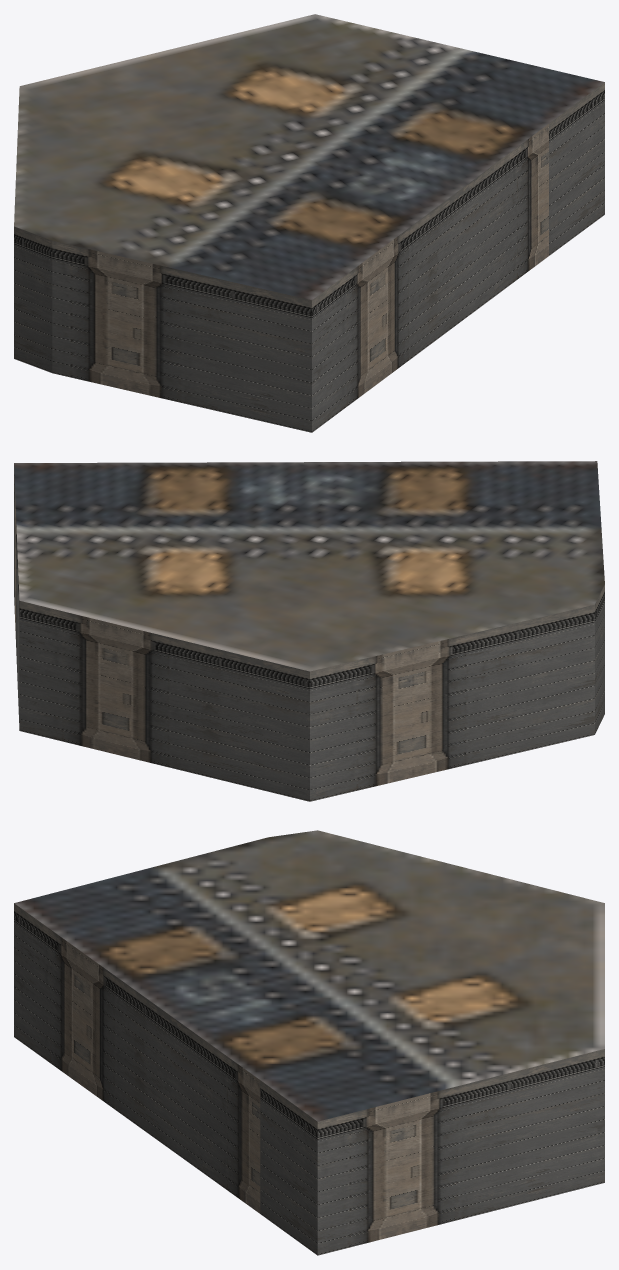
The model's file is hangar_medium_a_51.glb.
The picture shows the model from 3 angles, top to bottom: view 1: azimuth 30°, elevation 25°; view 2: azimuth 150°, elevation 25°; view 3: azimuth 270°, elevation 25°; orthographic projection. The views are drawn at different scales.
Visible parts, largest first — view 1: buildings/saxarba/hangar_medium/hangar_medium_a_51; view 2: buildings/saxarba/hangar_medium/hangar_medium_a_51; view 3: buildings/saxarba/hangar_medium/hangar_medium_a_51.
Part boxes in pixels (box(x1,y1,x2,y2)): buildings/saxarba/hangar_medium/hangar_medium_a_51: box(14, 14, 604, 432); buildings/saxarba/hangar_medium/hangar_medium_a_51: box(14, 461, 604, 801); buildings/saxarba/hangar_medium/hangar_medium_a_51: box(14, 830, 604, 1255).
Bounding box in the file's own units: 84 × 18 × 72.
